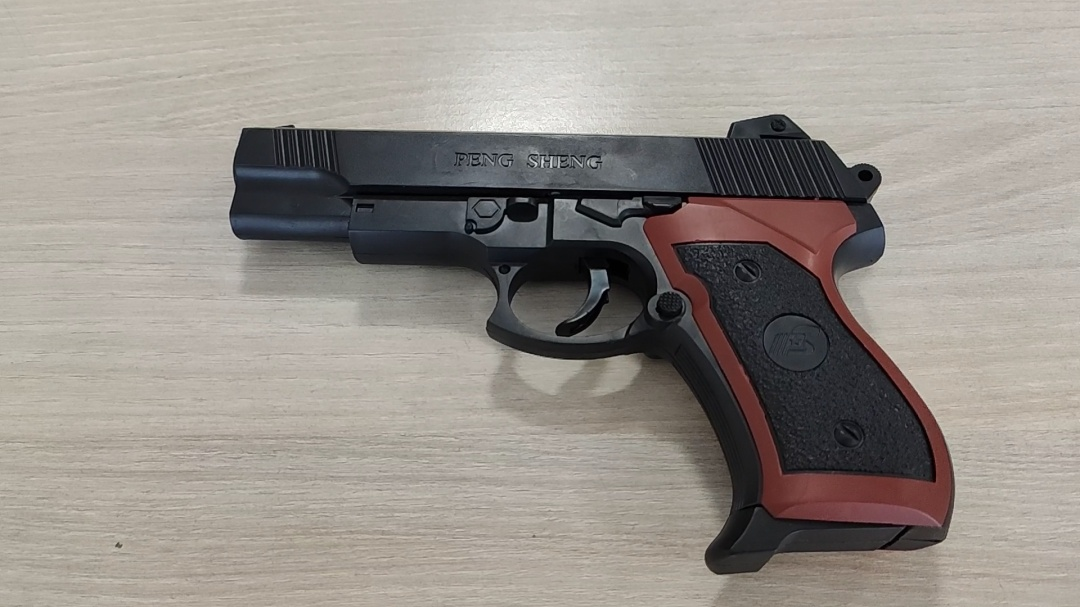gun: (229, 114, 955, 575)
